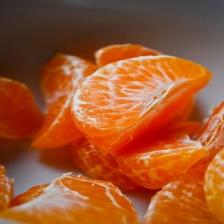orange: (73, 56, 213, 154), (145, 104, 224, 224), (0, 166, 140, 224), (31, 54, 98, 148), (117, 138, 206, 189), (40, 54, 98, 112)
